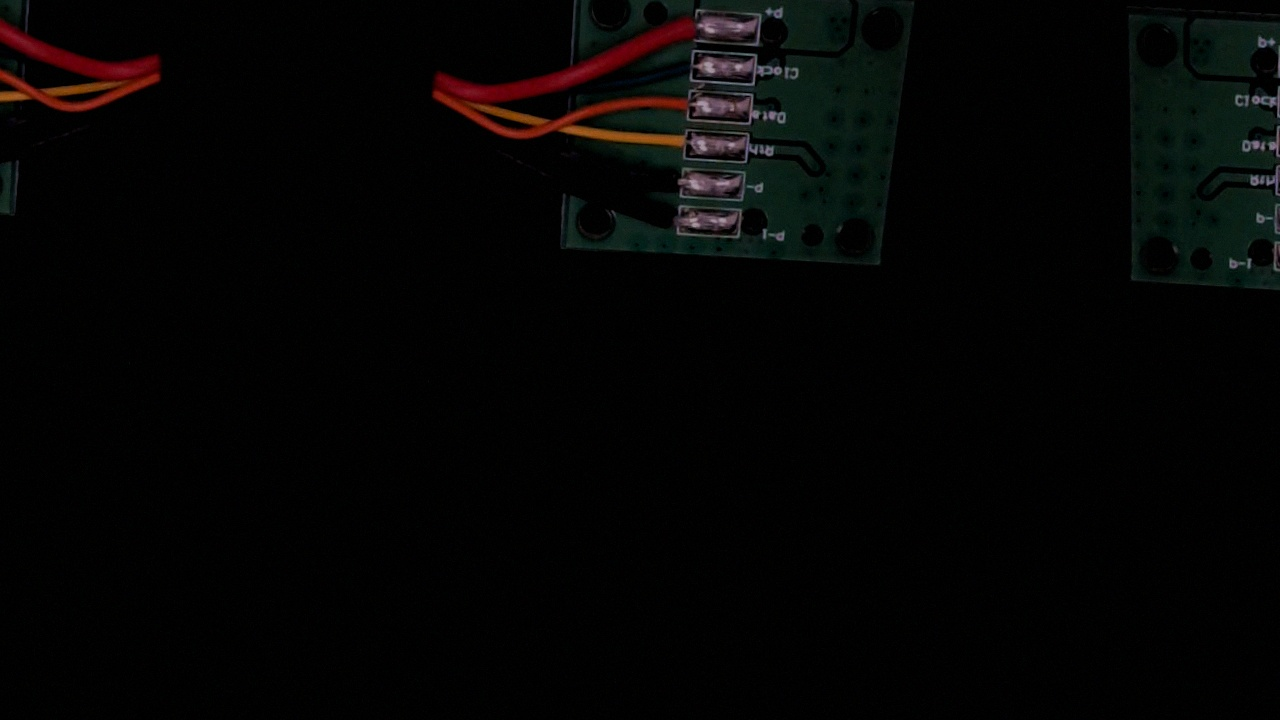Black: (630, 161, 705, 200)
Black1: (629, 203, 698, 240)
Green: (656, 50, 718, 84)
Orange: (640, 88, 713, 124)
Red: (654, 6, 716, 41)
Yellow: (633, 124, 709, 163)
